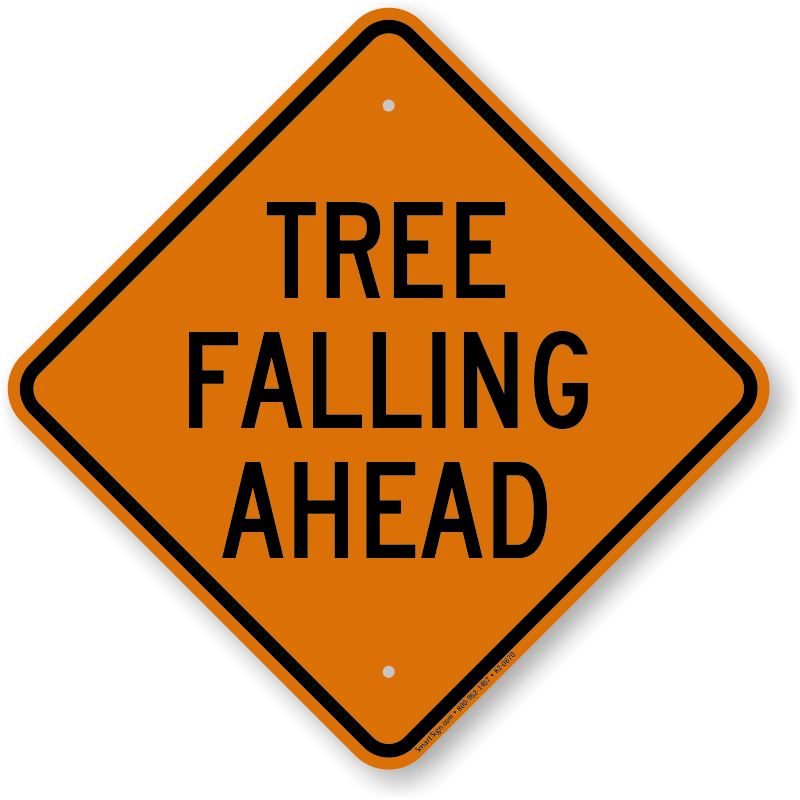FallenSign: (7, 11, 787, 772)
